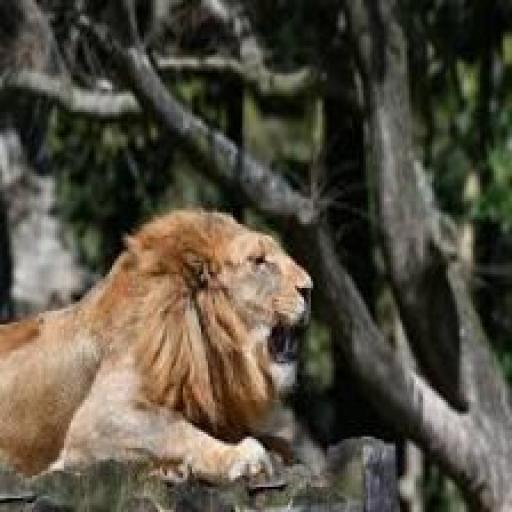lion: (14, 185, 339, 501)
